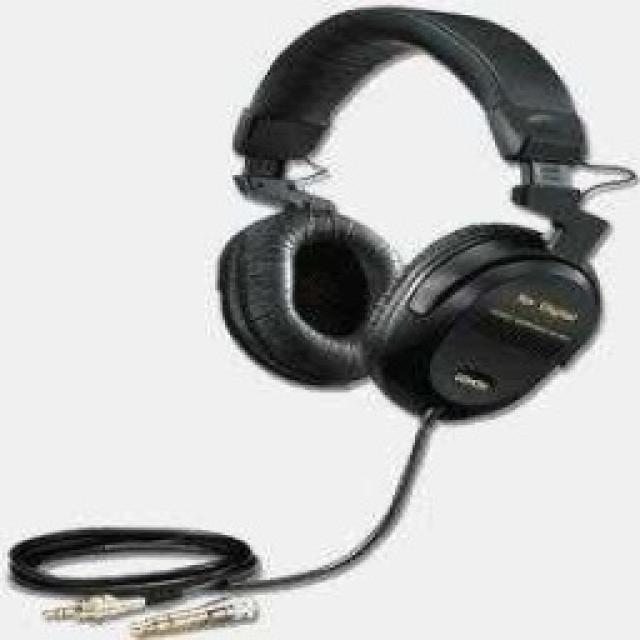headphones: (212, 2, 632, 422)
